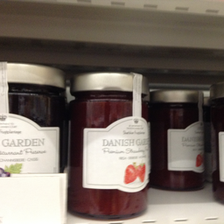jam: (66, 73, 151, 220), (1, 62, 63, 175), (150, 89, 204, 190)
